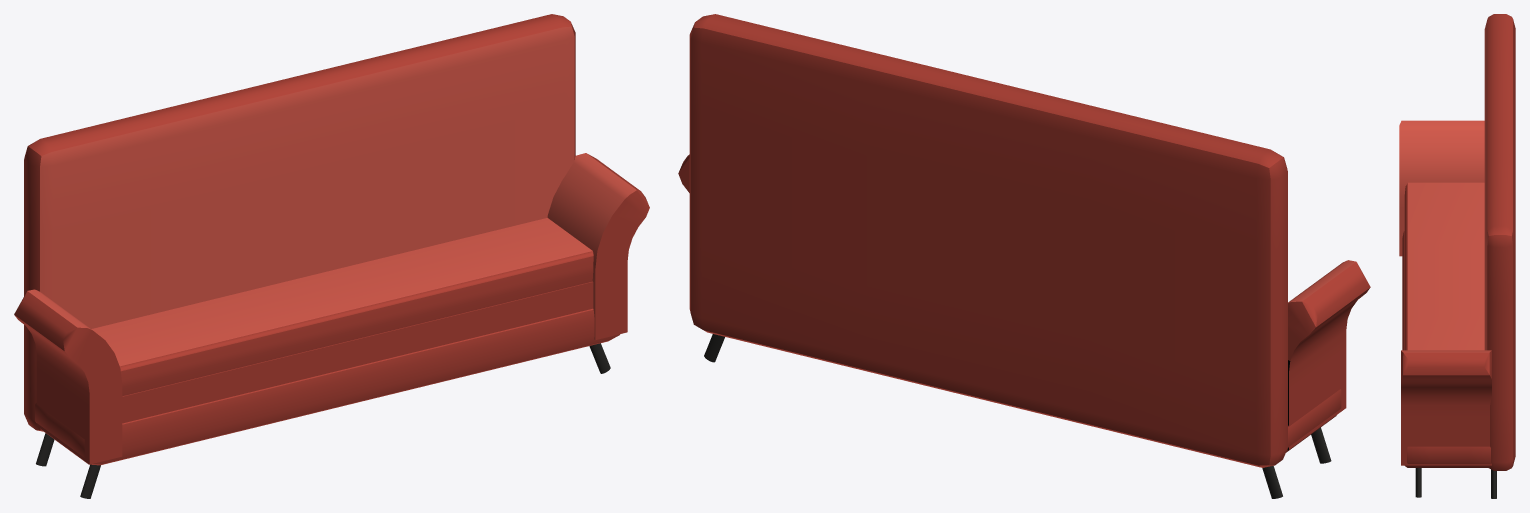
Rendered from sofa.obj.
3 views of the same model, side by side, from view 1: azimuth 30°, elevation 25°; view 2: azimuth 150°, elevation 25°; view 3: azimuth 270°, elevation 25° (orthographic). The views are drawn at different scales.
Visible parts, largest first — view 1: sofa:group1_pasted__pCylinder1; view 2: sofa:group1_pasted__pCylinder1; view 3: sofa:group1_pasted__pCylinder1.
Boxes of the visible parts, bbox=[...] form: sofa:group1_pasted__pCylinder1: bbox=[14, 14, 649, 498]; sofa:group1_pasted__pCylinder1: bbox=[678, 14, 1370, 498]; sofa:group1_pasted__pCylinder1: bbox=[1399, 14, 1515, 498].
Size of the model in its own units: 3.33 by 1.74 by 0.677.
